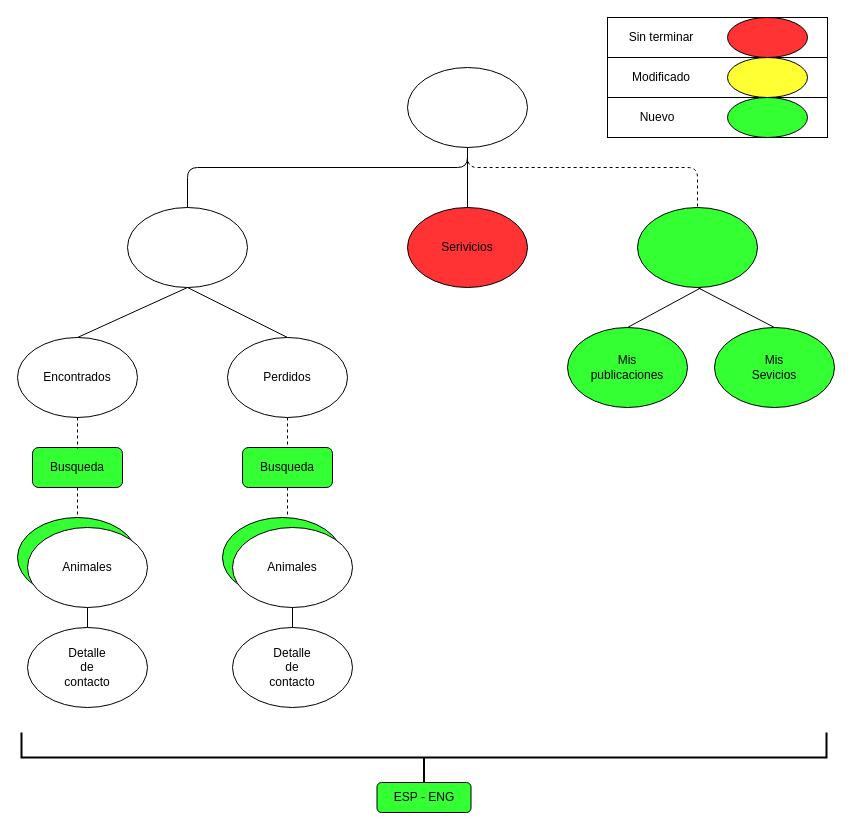
The diagram is 852 pixels wide and 830 high, and some of its shapes have lost their labels. Each missing label, with the box of its shape:
Homepage: (406, 66, 528, 148)
Login: (636, 206, 758, 288)
Publicaciones: (126, 206, 248, 288)
